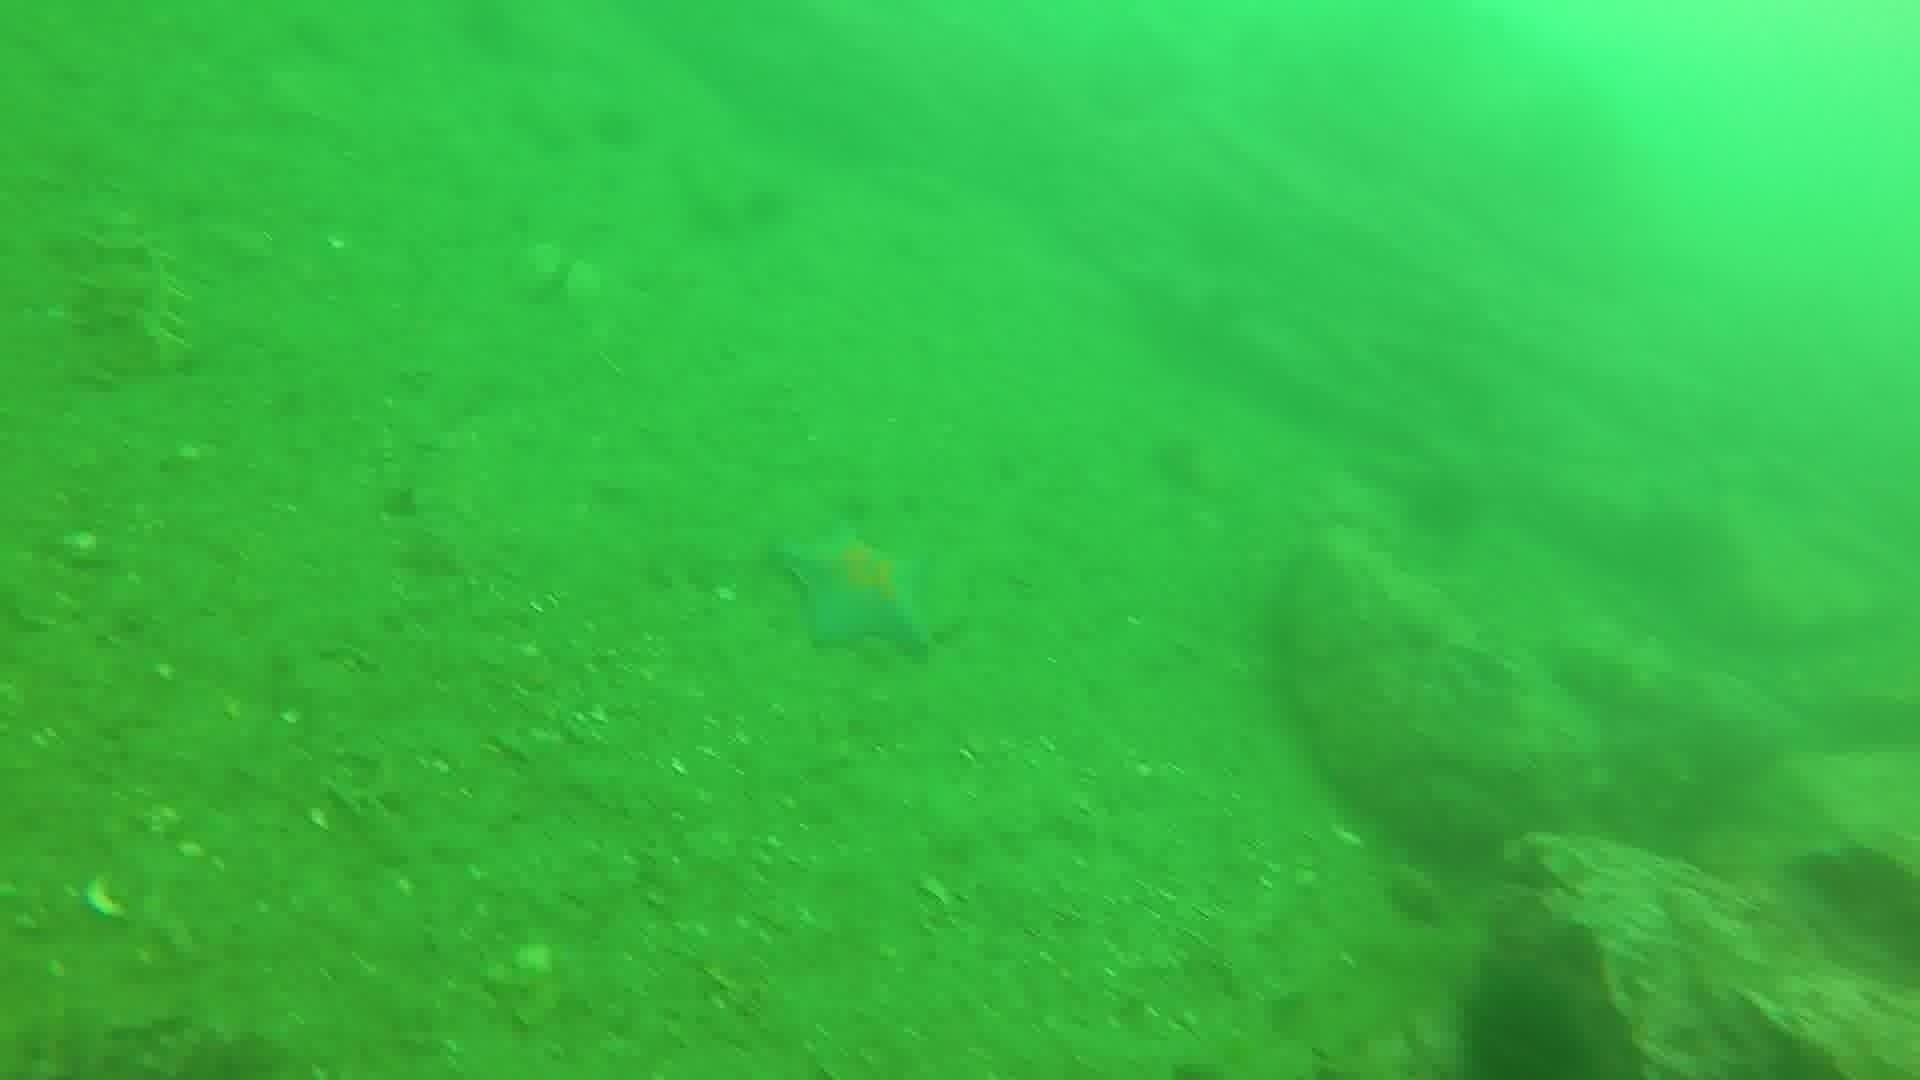echinus: (1452, 967, 1597, 1079), (1145, 429, 1211, 496), (585, 99, 650, 156)
holothurian: (63, 219, 196, 378)
starfish: (770, 516, 943, 662)
